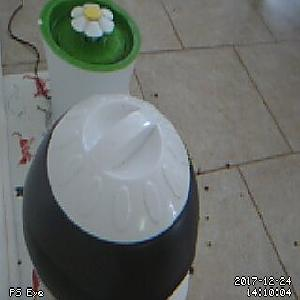fountain: (38, 1, 142, 72)
